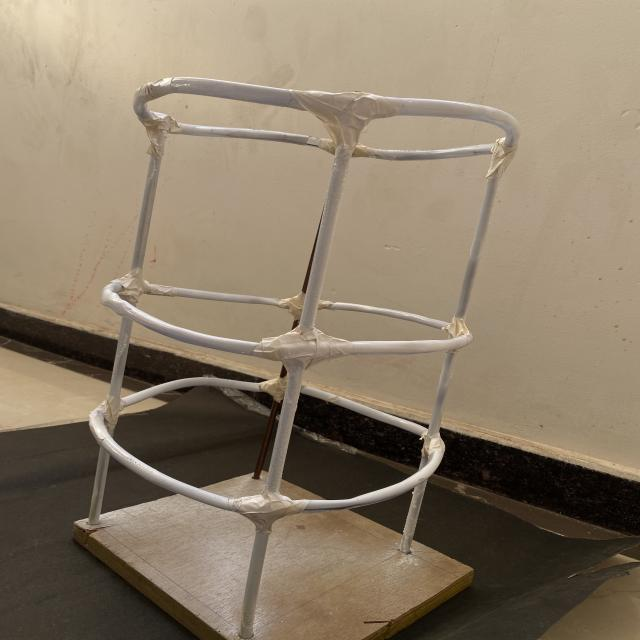silo: (92, 81, 510, 636)
